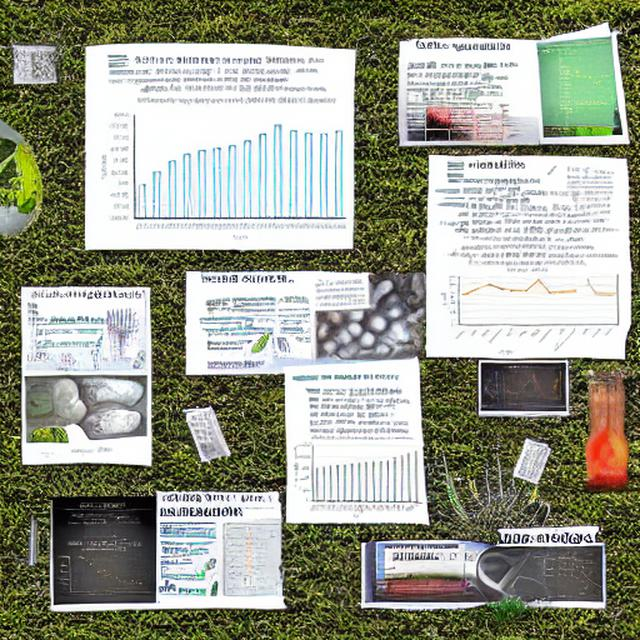Graph: (93, 94, 352, 246), (440, 259, 585, 355), (291, 435, 422, 520), (55, 540, 156, 602), (495, 367, 566, 411)
